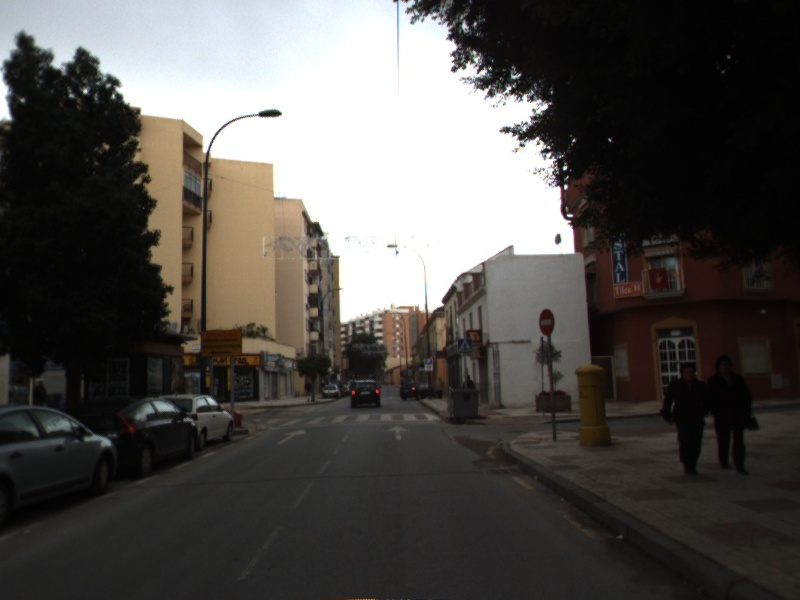STRAIGHT: (274, 427, 309, 447), (384, 424, 412, 442)
